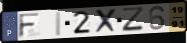2: (72, 10, 93, 35)
6: (148, 5, 166, 32)
F: (18, 12, 42, 39)
I: (54, 11, 63, 37)
X: (94, 8, 118, 35)
Z: (121, 6, 146, 33)
